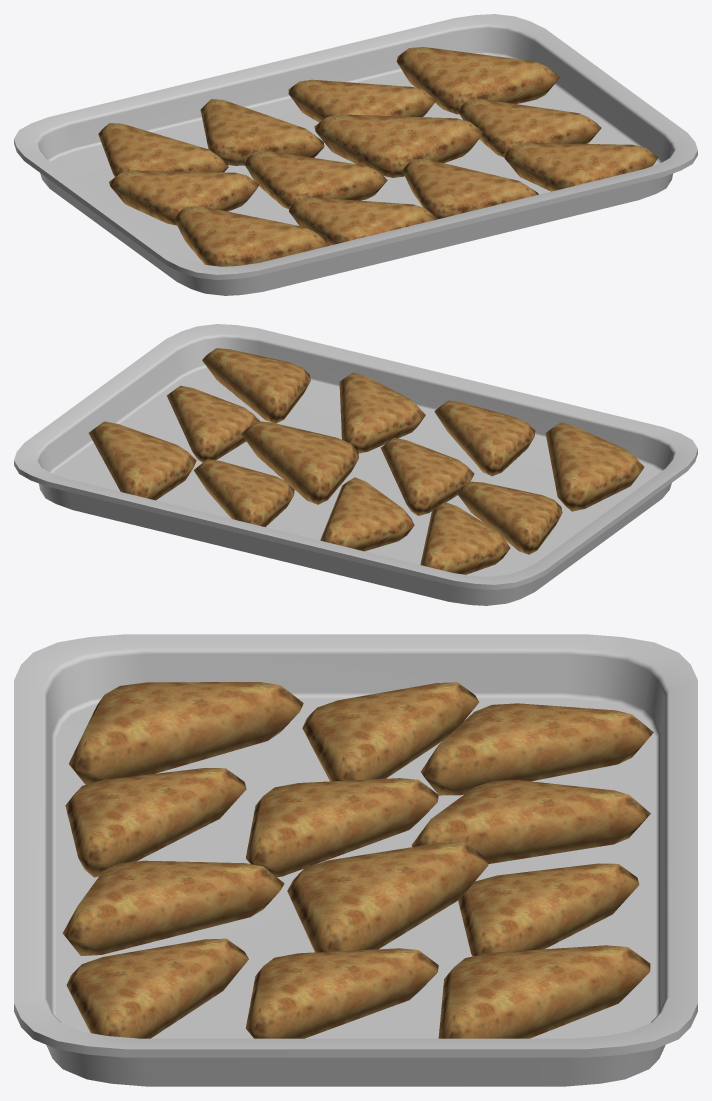
The model's file is feta_triagle_tray.fbx.
The picture shows the model from 3 angles, top to bottom: view 1: azimuth 30°, elevation 25°; view 2: azimuth 150°, elevation 25°; view 3: azimuth 270°, elevation 25°; orthographic projection. The views are drawn at different scales.
Parts seen in each view (by area): view 1: feta_triagle_tray_LOD0; view 2: feta_triagle_tray_LOD0; view 3: feta_triagle_tray_LOD0.
Part boxes in pixels (x1,y1,x2,y2): feta_triagle_tray_LOD0: [14, 14, 697, 295]; feta_triagle_tray_LOD0: [14, 324, 697, 605]; feta_triagle_tray_LOD0: [14, 634, 697, 1086].
Size of what is drawn, in the model's own units: 0.6768 by 0.0446 by 0.4716.
